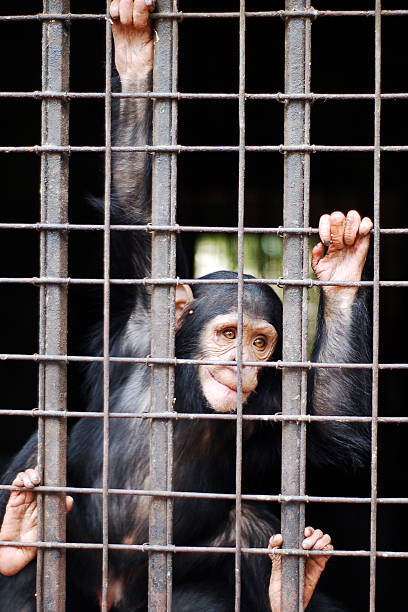chimpanzee: (159, 248, 284, 436)
